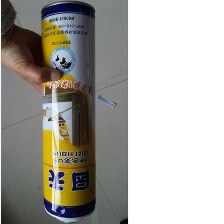aerosol_cans: (38, 0, 97, 224)
